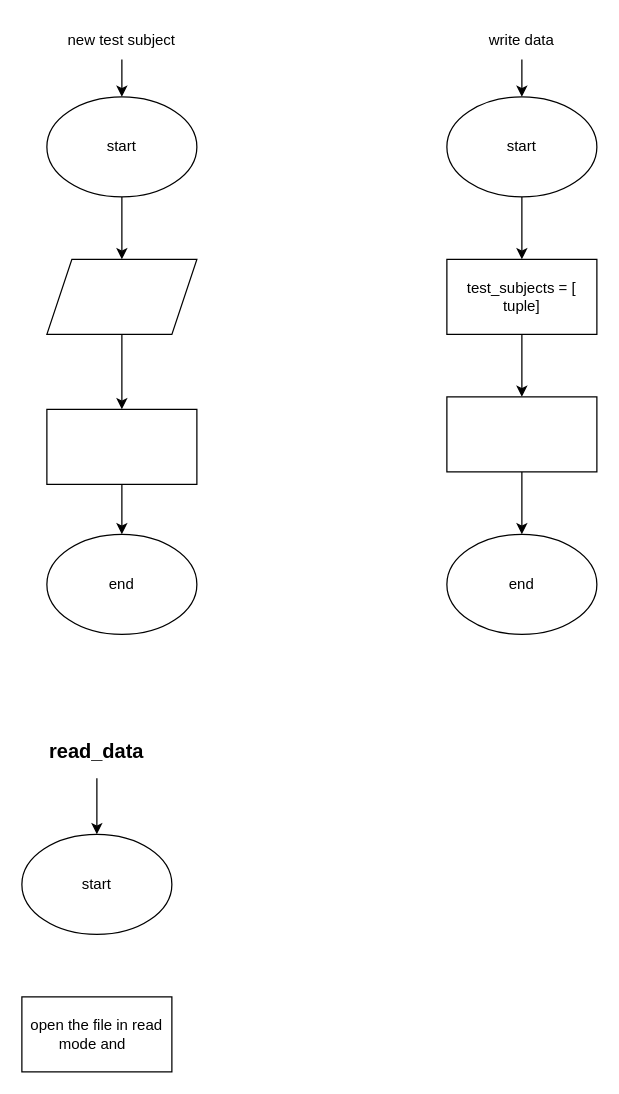
The diagram is 619 pixels wide and 1094 high, and some of its shapes have lost their labels. The box of each missing label's shape, as (x1, y1, x2, y2) in pixels:
open the file in write mode and write data from test_subjects and close: (446, 396, 597, 472)
return as tuple: (46, 408, 197, 484)
taking input number, duration as int: (46, 258, 197, 334)
